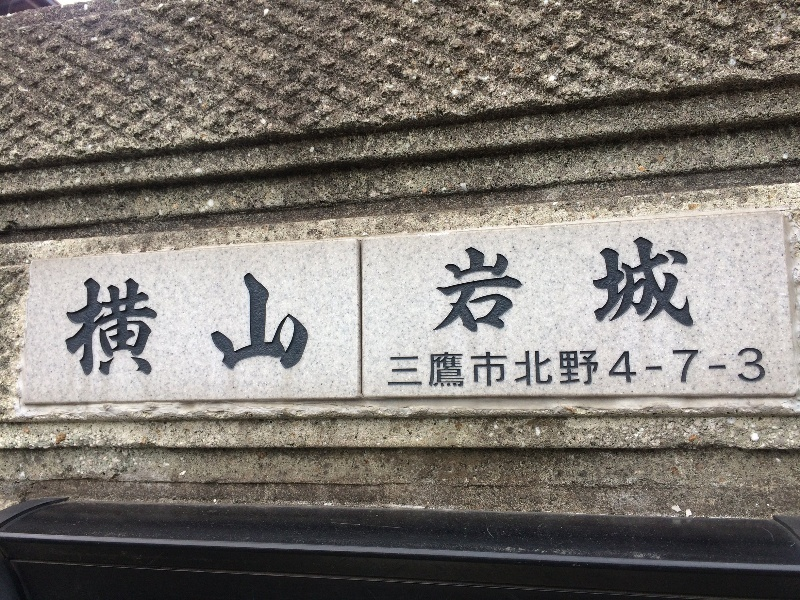text: (81, 272, 96, 378), (97, 272, 112, 378), (113, 272, 128, 378), (129, 272, 144, 378), (145, 272, 160, 378), (161, 272, 176, 378), (177, 272, 192, 378), (193, 272, 208, 378), (209, 272, 224, 378), (225, 272, 240, 378), (241, 272, 256, 378), (257, 272, 272, 378), (273, 272, 288, 378), (289, 272, 304, 378), (433, 234, 448, 335), (449, 234, 464, 335), (465, 234, 480, 335), (481, 234, 496, 335), (497, 234, 512, 335), (513, 234, 528, 335), (529, 234, 544, 335), (545, 234, 560, 335), (561, 234, 576, 335), (577, 234, 592, 335), (593, 234, 608, 335), (609, 234, 624, 335), (625, 234, 640, 335), (641, 234, 656, 335), (657, 234, 672, 335), (673, 234, 688, 335), (66, 272, 80, 378), (401, 349, 416, 391), (417, 349, 432, 391), (433, 349, 448, 391), (449, 349, 464, 391), (465, 349, 480, 391), (481, 349, 496, 391), (497, 349, 512, 391), (513, 349, 528, 391), (529, 349, 544, 391), (545, 349, 560, 391), (561, 349, 576, 391), (577, 349, 592, 391), (593, 349, 608, 391), (609, 349, 624, 391), (625, 349, 640, 391), (641, 349, 656, 391), (657, 349, 672, 391), (673, 349, 688, 391), (689, 349, 704, 391), (705, 349, 720, 391), (721, 349, 736, 391), (737, 349, 752, 391), (753, 349, 766, 391), (689, 234, 693, 335), (391, 349, 400, 391), (305, 272, 308, 378)
